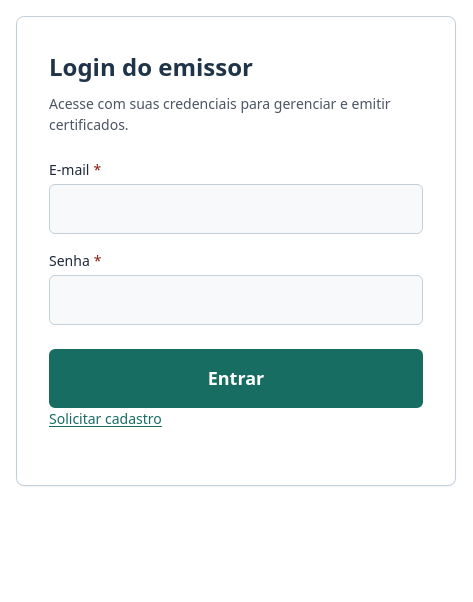
Test: LoginPage (CT1/CT3) › exibe alerta com role="alert" em caso de 401 com cadastro pendente
Type "pendente@timbro.test" into the field labelled "E-mail*" at point(236, 209), box [49,184,423,234]
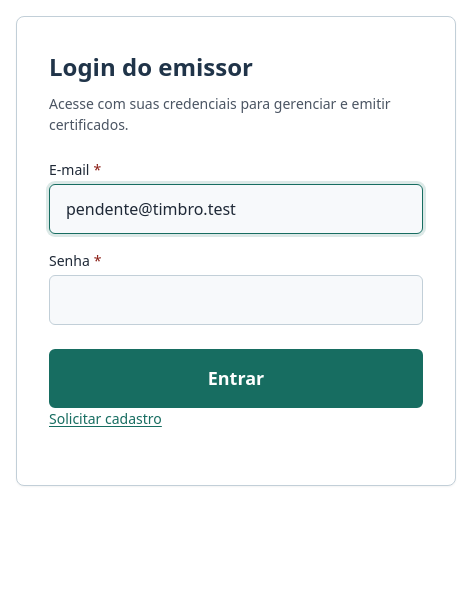
Type "Senha@123" into the password field labelled "Senha*" at point(236, 300), box [49,275,423,325]
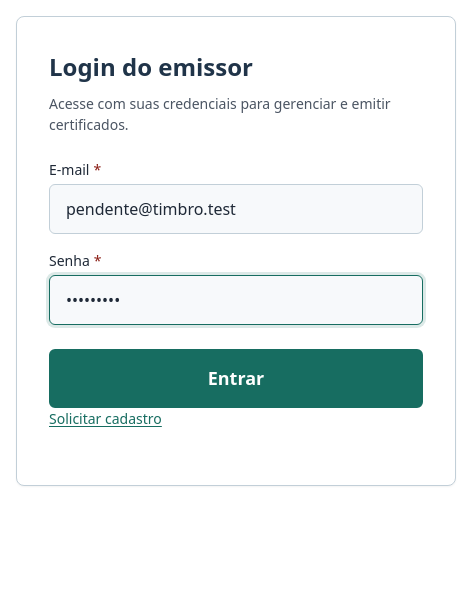
Click the button "Entrar" at point(236, 378), box [49,349,423,408]
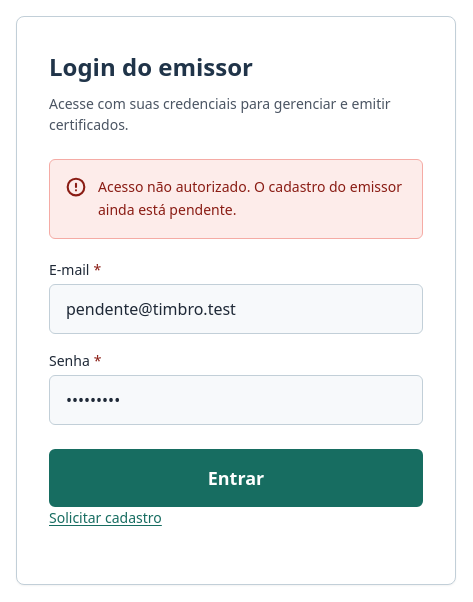
Check: the message reads "Acesso não autorizado. O cadastro do emissor ainda está pendente.", box [98,177,402,219]
